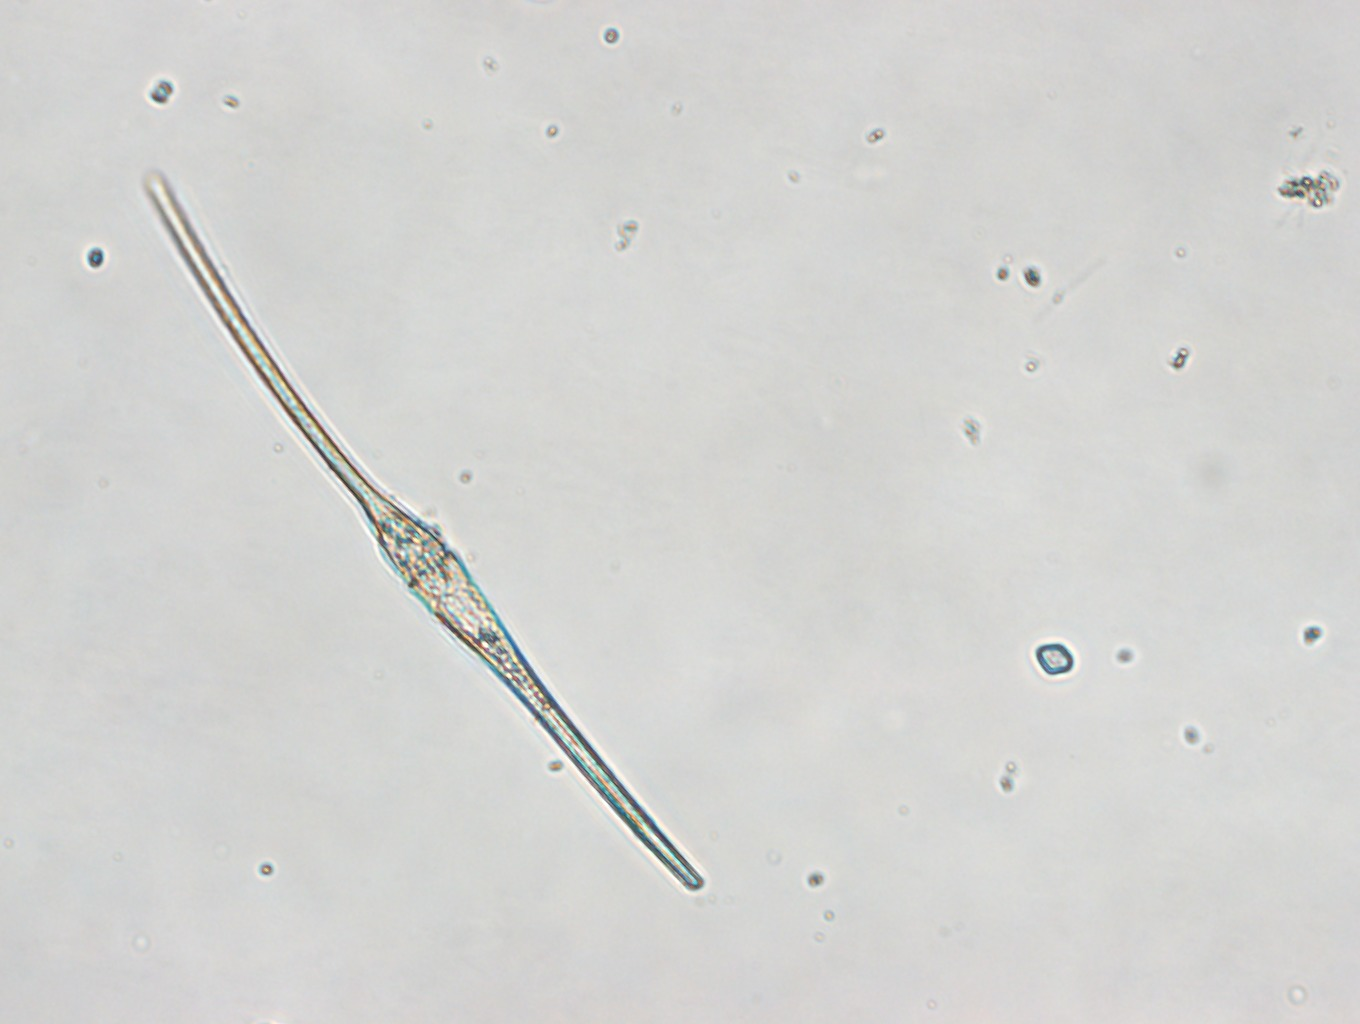ceratium fusus: (140, 169, 705, 892)
